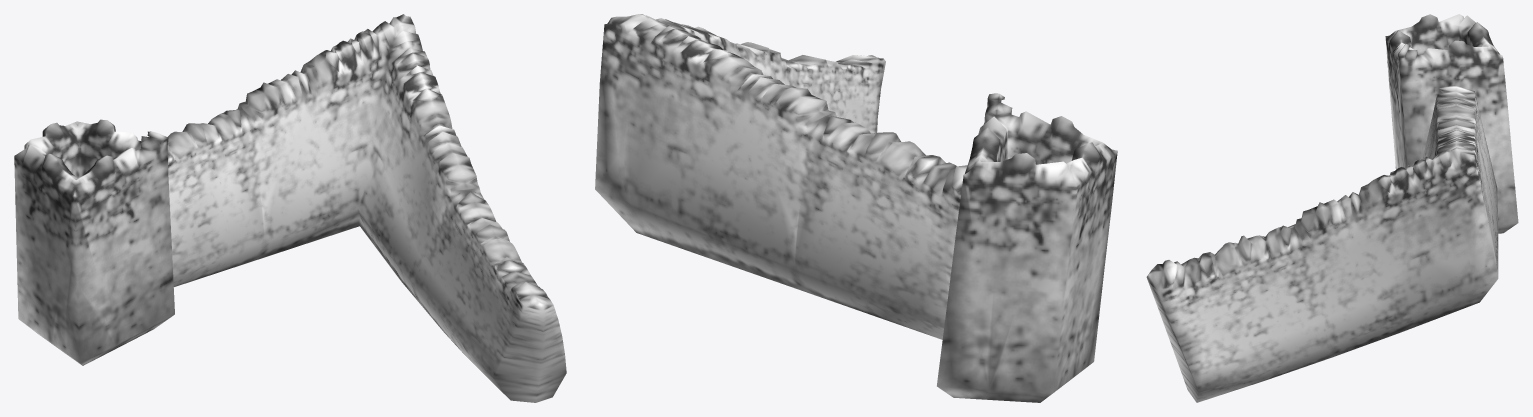
File: Ruins_BigWall007.fbx
3 views of the same model, side by side, from view 1: azimuth 30°, elevation 25°; view 2: azimuth 150°, elevation 25°; view 3: azimuth 270°, elevation 25° (orthographic). The views are drawn at different scales.
Visible parts, largest first — view 1: Ruins_BigWall007, Ruins_towerpiece00; view 2: Ruins_BigWall007, Ruins_towerpiece00; view 3: Ruins_BigWall007, Ruins_towerpiece00.
Part boxes in pixels (x1,y1,x2,y2): Ruins_BigWall007: [167, 14, 566, 402]; Ruins_towerpiece00: [14, 119, 174, 365]; Ruins_BigWall007: [595, 14, 967, 339]; Ruins_towerpiece00: [937, 93, 1117, 402]; Ruins_BigWall007: [1146, 85, 1498, 402]; Ruins_towerpiece00: [1385, 14, 1518, 233].
Bounding box in the file's own units: 896 × 578 × 782.
